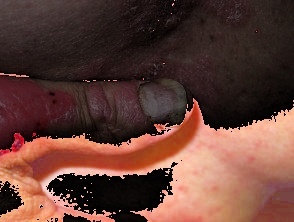Nail_psoriasis: (104, 62, 202, 145)
